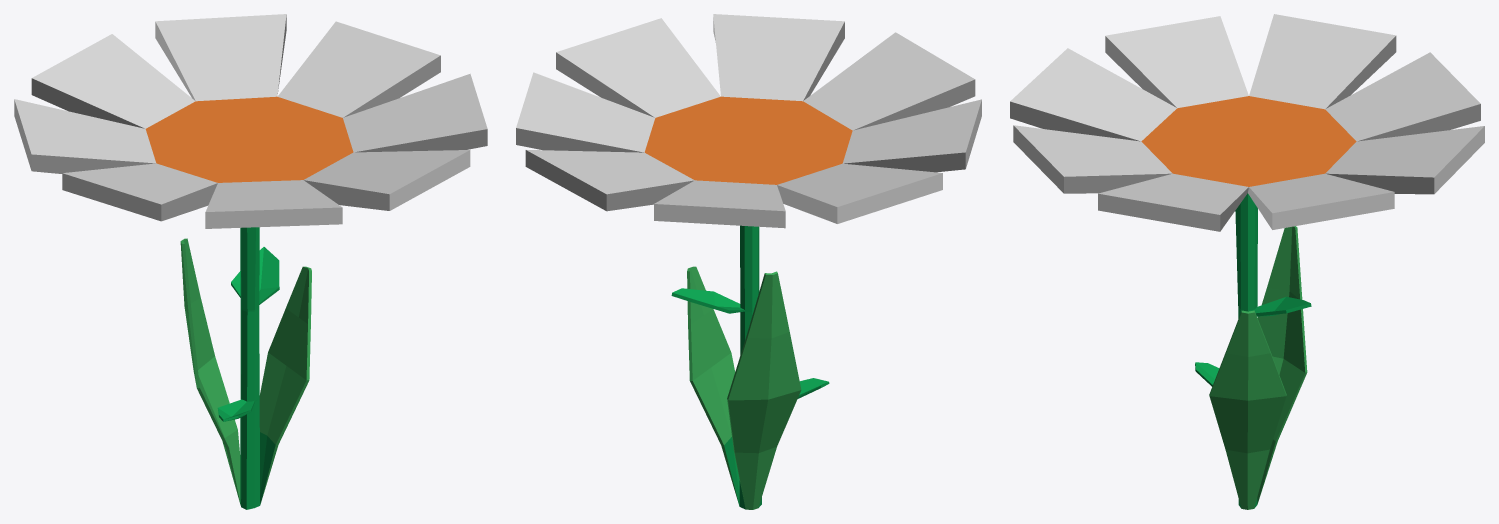
Rendered from Plant008.fbx.
The picture shows the model from 3 angles, left to right: view 1: azimuth 30°, elevation 25°; view 2: azimuth 150°, elevation 25°; view 3: azimuth 270°, elevation 25°; orthographic projection.
Visible parts, largest first — view 1: Plant008; view 2: Plant008; view 3: Plant008.
Boxes of the visible parts, x1=… form: Plant008: x1=14, y1=14, x2=487, y2=509; Plant008: x1=516, y1=14, x2=981, y2=509; Plant008: x1=1010, y1=14, x2=1484, y2=509.
Size of the model in its own units: 0.8154 by 0.7409 by 0.8141.
